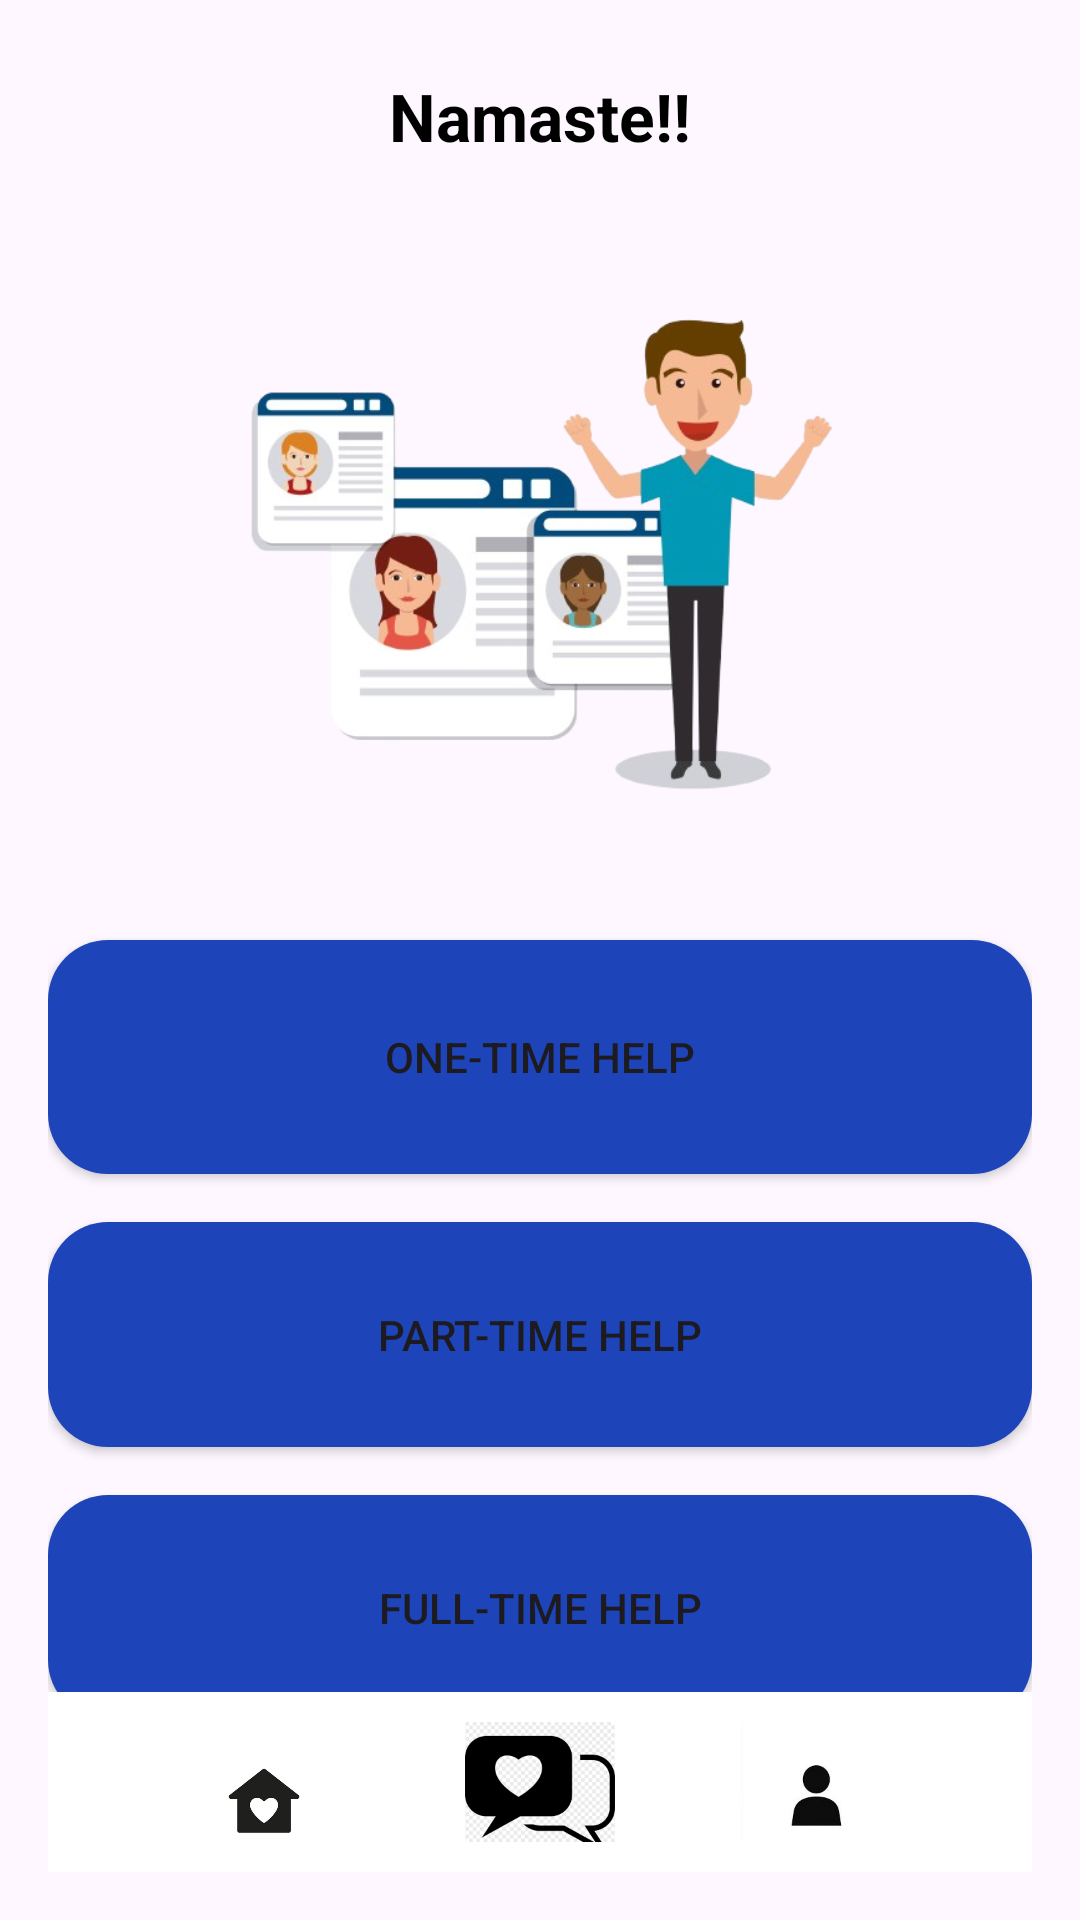

Icon click points for this 1080w x 1920h phone screenshot, format (x,y):
Home: (264,1801)
Profile: (816,1795)
